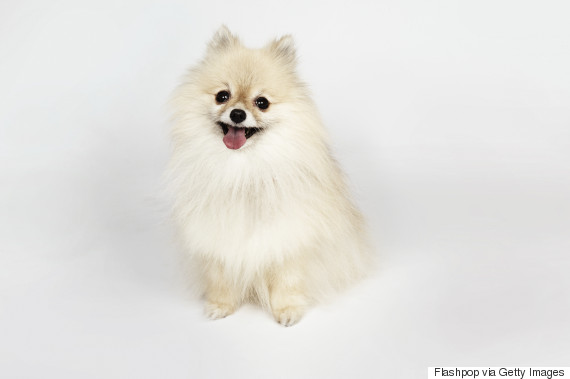pomeranian: (164, 19, 382, 324)
